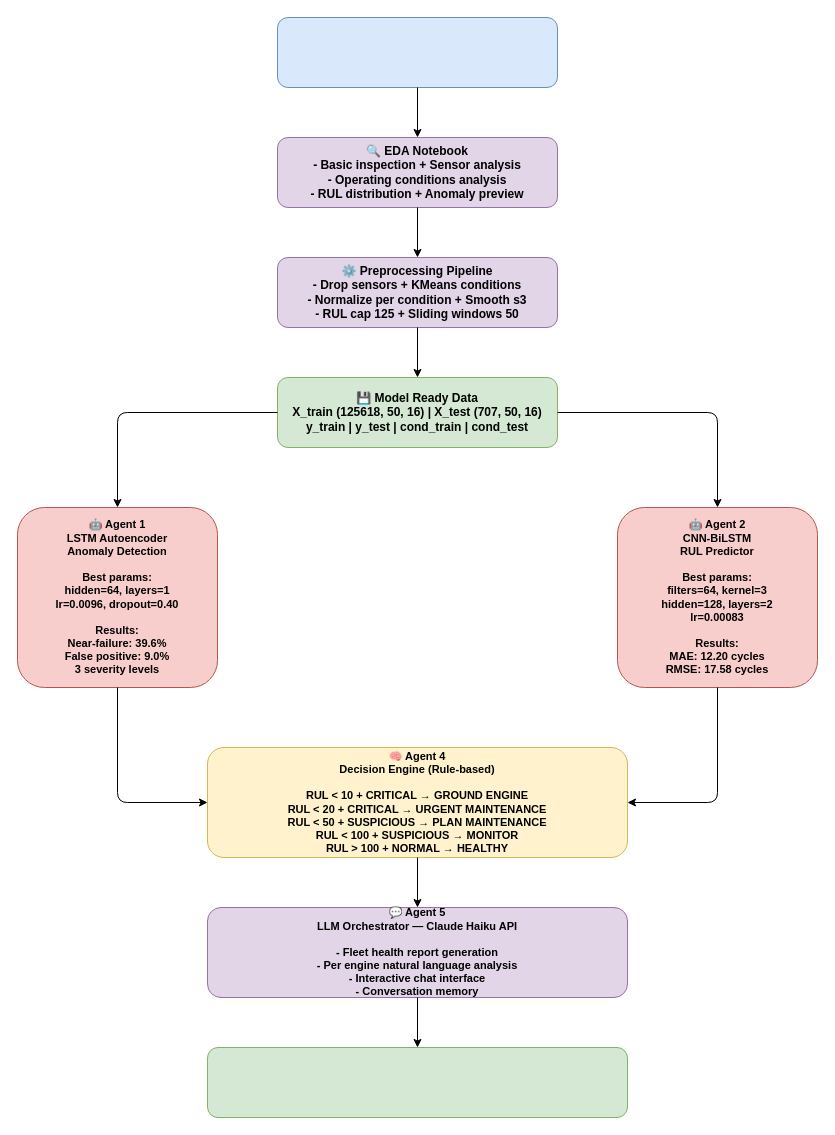
This 835x1135 diagram has some shape labels left out. Each missing label, with the centre of its shape:
📁 Raw Data NASA C-MAPSS .txt files FD001 / FD002 / FD003 / FD004: the point at 417,52
📊 Streamlit Dashboard Fleet Overview | Engine Detail | RUL Analysis | AI Chat: the point at 417,1082
